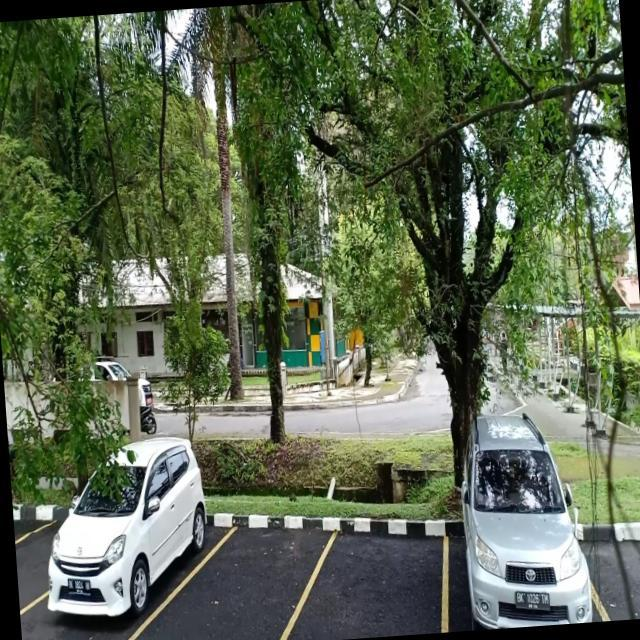empty: (181, 502, 312, 640), (305, 516, 450, 640)
occupied: (36, 469, 211, 640)
